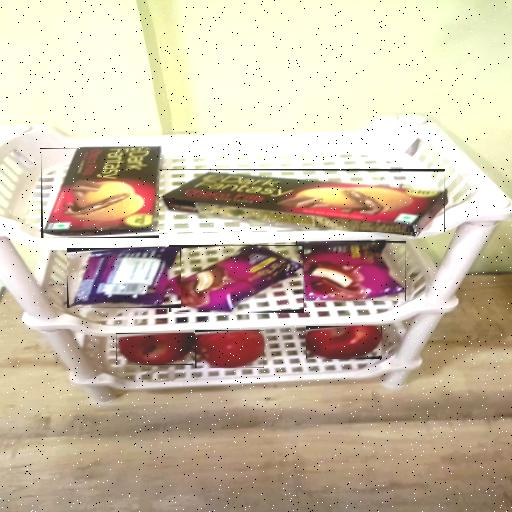Apple: (195, 330, 264, 368), (306, 326, 382, 359), (116, 333, 193, 365)
Choco Fills: (160, 169, 446, 232), (41, 148, 159, 238)
Choco Pie: (169, 246, 304, 314), (67, 248, 181, 308), (296, 241, 406, 301)
